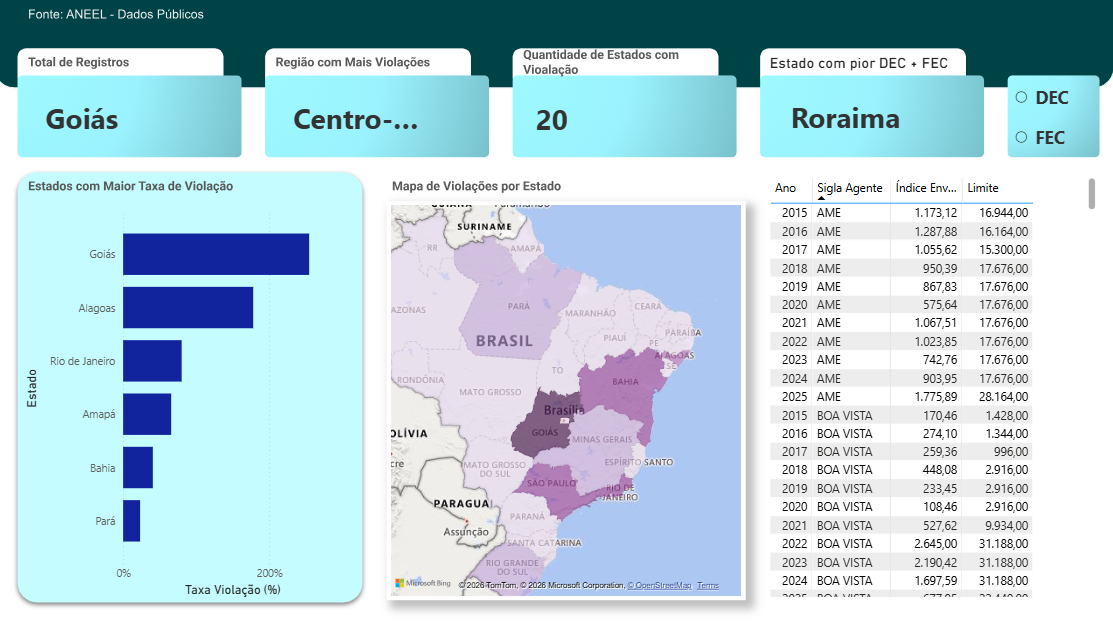

Layout of this report page (visuals, bound fields, positions):
{"tool":"powerbi","page":{"name":"Análise Geográfica","canvas":[1280,720],"ordinal":2},"visuals":[{"type":"barChart","fields":{"Y":["indicadores_consolidados_aneel.taxa_violacao_estado"],"Category":["indicadores_consolidados_aneel.SigUF"]},"box":[30,234,388,458],"z":0},{"type":"filledMap","fields":{"Category":["indicadores_consolidados_aneel.SigUF"]},"box":[448,234,410,456],"z":1000},{"type":"listSlicer","fields":{"Values":["indicadores_consolidados_aneel.SigIndicador"]},"box":[1159.6,88.8,104,99.9],"z":2000},{"type":"tableEx","fields":{"Values":["indicadores_consolidados_aneel.AnoIndice","indicadores_consolidados_aneel.SigAgente","Sum(indicadores_consolidados_aneel.VlrIndiceEnviado)","Sum(indicadores_consolidados_aneel.VlrLimite)"]},"box":[881.4,202.9,382.9,488.6],"z":3000},{"type":"cardVisual","fields":{"Data":["_Medidas.EstadoMaisViolacoes_Final"]},"box":[30,88.3,250,98.3],"z":4000},{"type":"cardVisual","fields":{"Data":["_Medidas.QtdEstadosComViolacao_Final"]},"box":[590.2,88.3,252.8,99.4],"z":5000},{"type":"cardVisual","fields":{"Data":["_Medidas.RegiaoMaisViolacoes_Final"]},"box":[313.5,88.8,253.8,98.5],"z":6000},{"type":"cardVisual","fields":{"Data":["_Medidas.PiorEstado_UF"]},"box":[880.8,65.2,241.4,122.1],"z":7000}]}

Visuals, with their boxes in screenshot pixels (x1, y1, x2, y2), scaled from the page's 1280x720 canvas onto the 1113x622 screenshot:
barChart - indicadores_consolidados_aneel.taxa_violacao_estado x indicadores_consolidados_aneel.SigUF: 26 202 363 598
filledMap - indicadores_consolidados_aneel.SigUF: 390 202 746 596
listSlicer - indicadores_consolidados_aneel.SigIndicador: 1008 77 1099 163
tableEx - indicadores_consolidados_aneel.AnoIndice x indicadores_consolidados_aneel.SigAgente: 766 175 1099 597
cardVisual - _Medidas.EstadoMaisViolacoes_Final: 26 76 243 161
cardVisual - _Medidas.QtdEstadosComViolacao_Final: 513 76 733 162
cardVisual - _Medidas.RegiaoMaisViolacoes_Final: 273 77 493 162
cardVisual - _Medidas.PiorEstado_UF: 766 56 976 162
